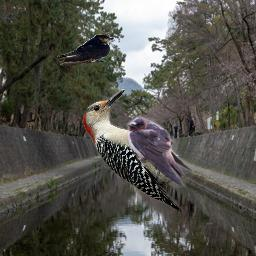Swallow: (126, 116, 194, 188), (57, 34, 115, 66)
Woodpecker: (82, 88, 190, 212)
